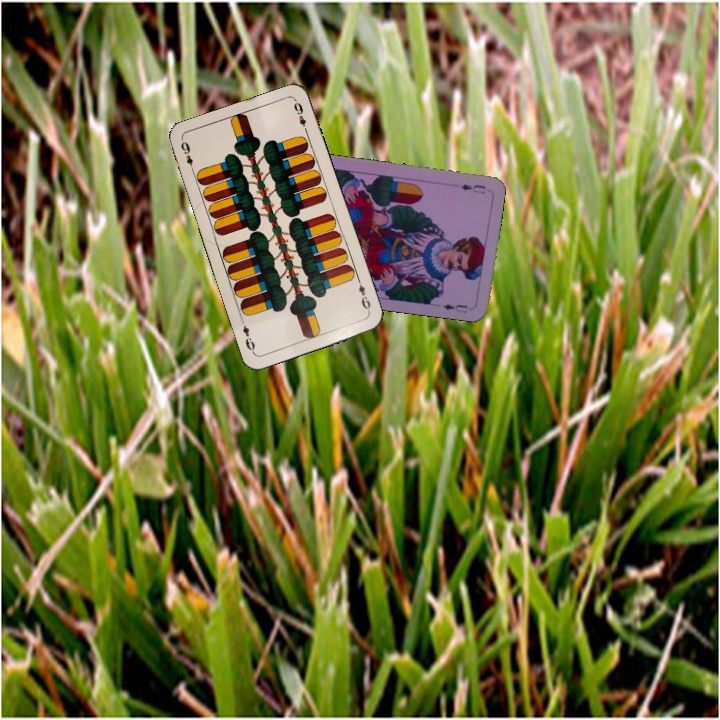E9: (177, 137, 197, 176), (354, 276, 373, 315)
EU: (456, 180, 488, 197)
